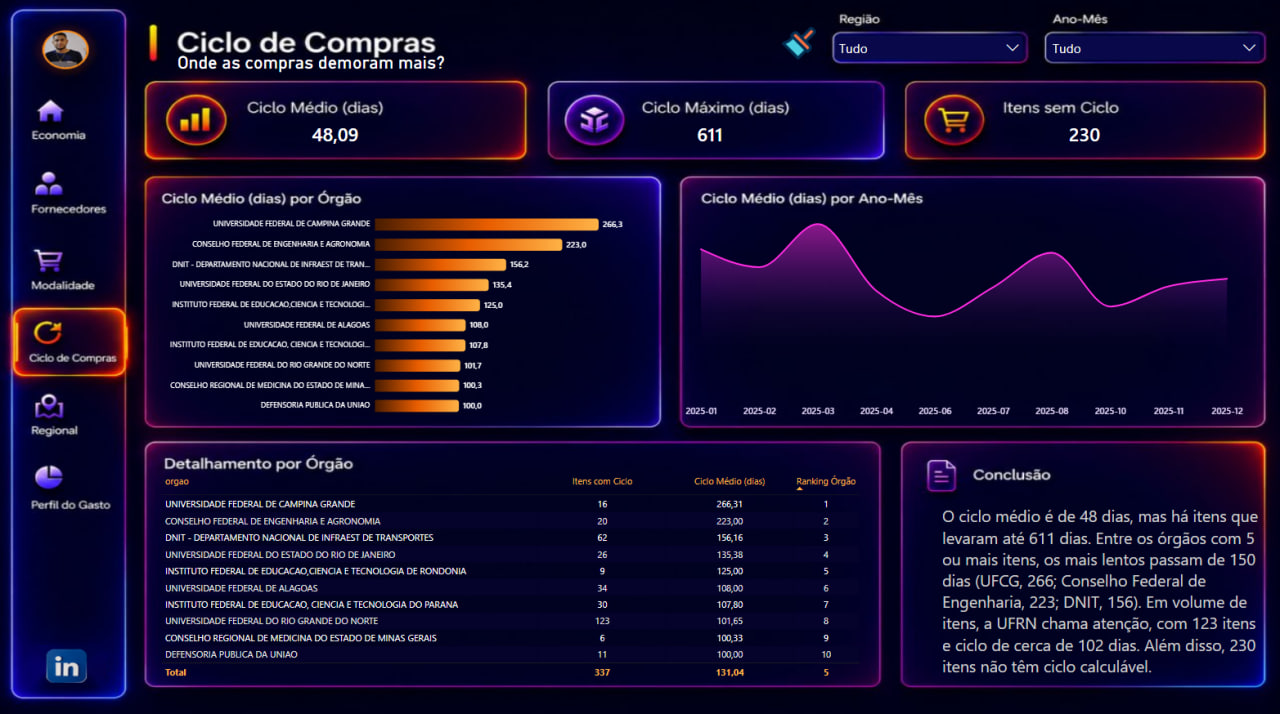

This screenshot's page, from the dashboard's own definition file:
{"tool":"powerbi","page":{"name":"Ciclo de Compras","canvas":[1920,1080],"ordinal":4},"visuals":[{"type":"cardVisual","fields":{"Data":["Medidas.P4 Ciclo Médio (dias)","Medidas.P4 Ciclo Máximo (dias)","Medidas.P4 Itens sem Ciclo"]},"box":[225.3,148.2,1669,114.9],"z":0},{"type":"textbox","title":"Onde as compras demoram mais?","box":[266.1,84.7,577.5,37.8],"z":1000},{"type":"tableEx","fields":{"Values":["dim_orgao.nome_orgao","Medidas.P4 Itens com Ciclo","Medidas.P4 Ciclo Médio (dias)","Medidas.P4 Ranking Órgão"]},"box":[225.3,698.5,1088.5,341.7],"z":2000},{"type":"textbox","box":[1407.5,760.4,476.2,258.5],"z":3000},{"type":"slicer","fields":{"Values":["Calendario.Ano-Mês"]},"box":[1561,54.9,325,53.3],"z":4000},{"type":"slicer","title":"região","fields":{"Values":["dim_localidade.regiao"]},"box":[1242.7,54.4,290.3,54.4],"z":5000},{"type":"image","title":"Limpar Filtro Ciclo","box":[1142.9,36.3,100,68.3],"z":6000},{"type":"deneb7E15AEF80B9E4D4F8E12924291ECE89A","title":"Volume Homologado","fields":{"dataset":["dim_orgao.nome_orgao","Medidas.P4 Ciclo Médio (dias)"]},"box":[225.3,305.1,753.2,343],"z":7000},{"type":"deneb7E15AEF80B9E4D4F8E12924291ECE89A","title":"Volume Homologado","fields":{"dataset":["Calendario.Ano-Mês","Medidas.P4 Ciclo Médio (dias)"]},"box":[979.1,304.5,929.9,343.3],"z":8000},{"type":"shape","title":"linkedin","box":[56.9,961.1,88.9,79.2],"z":8001},{"type":"shape","title":"1_modalidade","box":[15.3,362.5,173.6,95.8],"z":8002},{"type":"shape","title":"1_fornecedores","box":[15.3,250,173.6,97.2],"z":8003},{"type":"shape","title":"1_regional","box":[15.3,586.1,173.6,88.9],"z":8004},{"type":"shape","title":"1_perfil","box":[15.3,686.1,173.6,106.9],"z":8005},{"type":"shape","title":"1_economia","box":[15.3,143.1,166.7,93.1],"z":8006},{"type":"shape","box":[31.9,31.9,133.3,90.3],"z":8007}]}

Visuals, with their boxes on the page's 1920x1080 design canvas (x1, y1, x2, y2). These are canvas units, not pixel positions in the 1280x714 screenshot, which may show the page scaled, cropped or inside an application window:
cardVisual - Medidas.P4 Ciclo Médio (dias) x Medidas.P4 Ciclo Máximo (dias): crop(225, 148, 1894, 263)
"Onde as compras demoram mais?" textbox: crop(266, 85, 844, 122)
tableEx - dim_orgao.nome_orgao x Medidas.P4 Itens com Ciclo: crop(225, 698, 1314, 1040)
textbox: crop(1408, 760, 1884, 1019)
slicer - Calendario.Ano-Mês: crop(1561, 55, 1886, 108)
"região" slicer: crop(1243, 54, 1533, 109)
"Limpar Filtro Ciclo" image: crop(1143, 36, 1243, 105)
"Volume Homologado" deneb7E15AEF80B9E4D4F8E12924291ECE89A: crop(225, 305, 978, 648)
"Volume Homologado" deneb7E15AEF80B9E4D4F8E12924291ECE89A: crop(979, 304, 1909, 648)
"linkedin" shape: crop(57, 961, 146, 1040)
"1_modalidade" shape: crop(15, 362, 189, 458)
"1_fornecedores" shape: crop(15, 250, 189, 347)
"1_regional" shape: crop(15, 586, 189, 675)
"1_perfil" shape: crop(15, 686, 189, 793)
"1_economia" shape: crop(15, 143, 182, 236)
shape: crop(32, 32, 165, 122)
